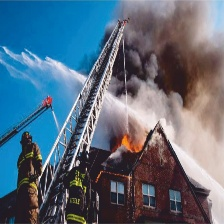fire: (110, 134, 144, 152)
smoke: (89, 2, 224, 136)
